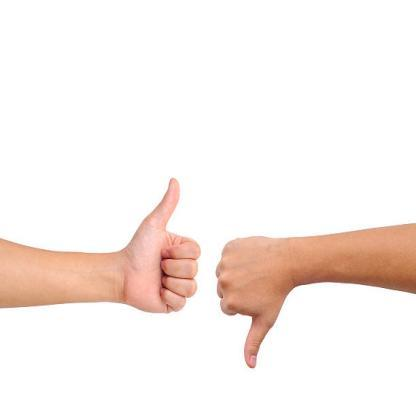thumb_down: (213, 233, 292, 370)
thumb_up: (122, 175, 201, 317)
